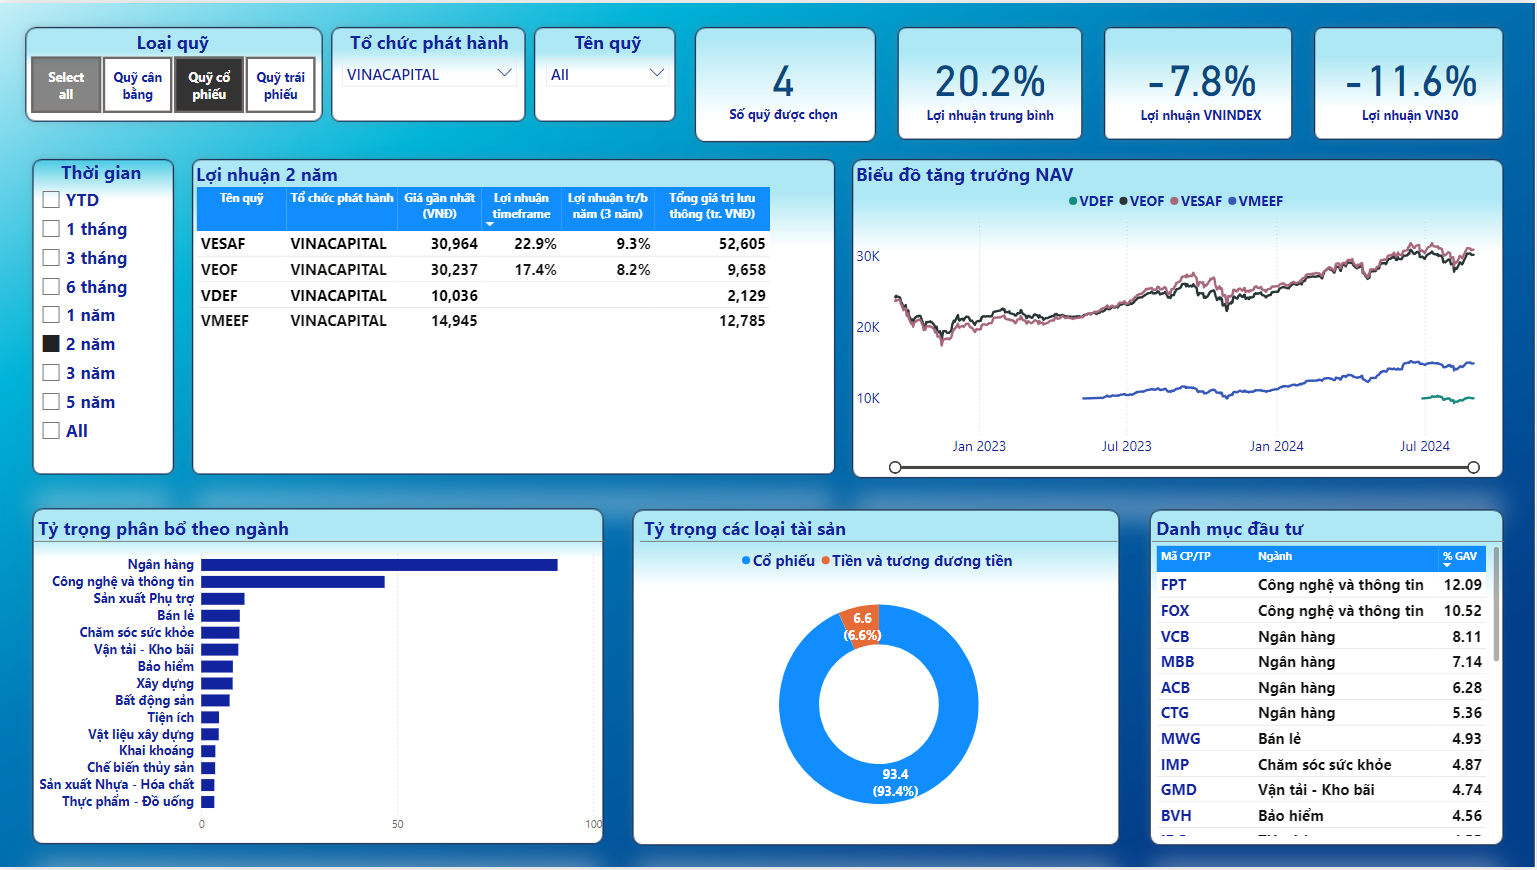

The dashboard page shown, as its layout file describes it:
{"tool":"powerbi","page":{"name":"Page 1","canvas":[1920,1080],"ordinal":0},"visuals":[{"type":"card","fields":{"Values":["CountNonNull(funds.id)"]},"box":[867.3,33,223.3,136.7],"z":0},{"type":"slicer","title":"Thời gian","fields":{"Values":["nav_by_time.Timeframe"]},"box":[41,195,172.5,392.5],"z":1000},{"type":"card","fields":{"Values":["All Measures.Avg Profit"]},"box":[1122.4,33,230,138],"z":2000},{"type":"slicer","title":"Tổ chức phát hành","fields":{"Values":["owners.short_name"]},"box":[416.6,32.7,238.6,110],"z":3000},{"type":"lineChart","title":"Biểu đồ tăng trưởng NAV","fields":{"Category":["date.Date"],"Series":["funds.short_name"],"Y":["All Measures.NAV by period"]},"box":[1064,198,814,394],"z":4000},{"type":"slicer","title":"Tên quỹ","fields":{"Values":["funds.short_name"]},"box":[672,33,174,110],"z":5000},{"type":"slicer","title":"Loại quỹ","fields":{"Values":["funds.fund_type_name"]},"box":[15.7,32.9,401.4,110],"z":6000},{"type":"tableEx","fields":{"Values":["funds.short_name","owners.short_name","Sum(funds.nav)","All Measures.Avg Profit","All Measures.Profit per years (3 years)","All Measures.Hoding value"]},"box":[240,198,802,392],"z":7000},{"type":"barChart","title":"Tỷ trọng phân bổ theo ngành","fields":{"Category":["top_stock_holdings.industry"],"Y":["Sum(top_stock_holdings.net_asset_percent)"]},"box":[43.3,640,715,405],"z":8000},{"type":"donutChart","title":"Tỷ trọng các loại tài sản ","fields":{"Y":["Avg(top_asset_holdings.asset_percent)"],"Category":["top_asset_holdings.asset_name"]},"box":[800.2,640,597.1,404.3],"z":9000},{"type":"tableEx","title":"Danh mục đầu tư","fields":{"Values":["top_stock_holdings.stock_code","top_stock_holdings.industry","Avg(top_stock_holdings.net_asset_percent)"]},"box":[1438.8,640,440,405],"z":10000},{"type":"card","fields":{"Values":["All Measures.Profit VNIndex"]},"box":[1384.2,33,232,138],"z":11000},{"type":"card","fields":{"Values":["All Measures.Profit VN30"]},"box":[1648,33,230,138],"z":12000}]}

Visuals, with their boxes in screenshot pixels (x1, y1, x2, y2), scaled from the page's 1920x1080 canvas onto the 1537x870 screenshot:
card - CountNonNull(funds.id): locate(694, 27, 873, 137)
"Thời gian" slicer: locate(33, 157, 171, 473)
card - All Measures.Avg Profit: locate(899, 27, 1083, 138)
"Tổ chức phát hành" slicer: locate(333, 26, 525, 115)
"Biểu đồ tăng trưởng NAV" lineChart: locate(852, 160, 1503, 477)
"Tên quỹ" slicer: locate(538, 27, 677, 115)
"Loại quỹ" slicer: locate(13, 27, 334, 115)
tableEx - funds.short_name x owners.short_name: locate(192, 160, 834, 475)
"Tỷ trọng phân bổ theo ngành" barChart: locate(35, 516, 607, 842)
"Tỷ trọng các loại tài sản " donutChart: locate(641, 516, 1119, 841)
"Danh mục đầu tư" tableEx: locate(1152, 516, 1504, 842)
card - All Measures.Profit VNIndex: locate(1108, 27, 1294, 138)
card - All Measures.Profit VN30: locate(1319, 27, 1503, 138)
